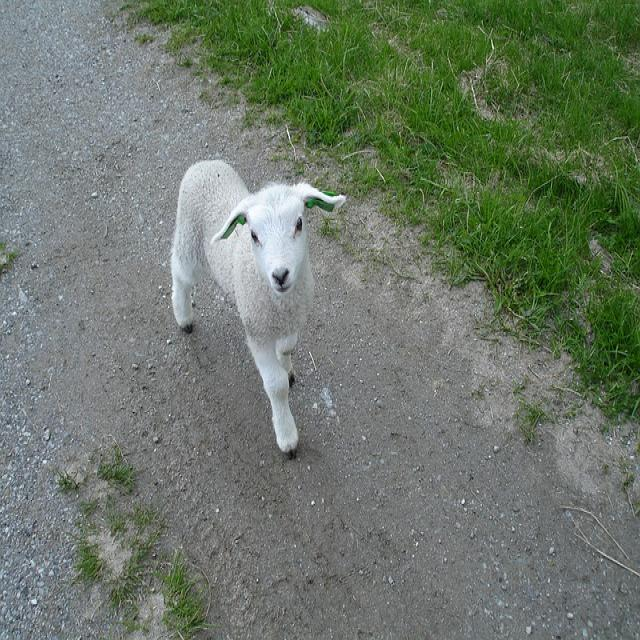goat: (169, 159, 347, 457)
